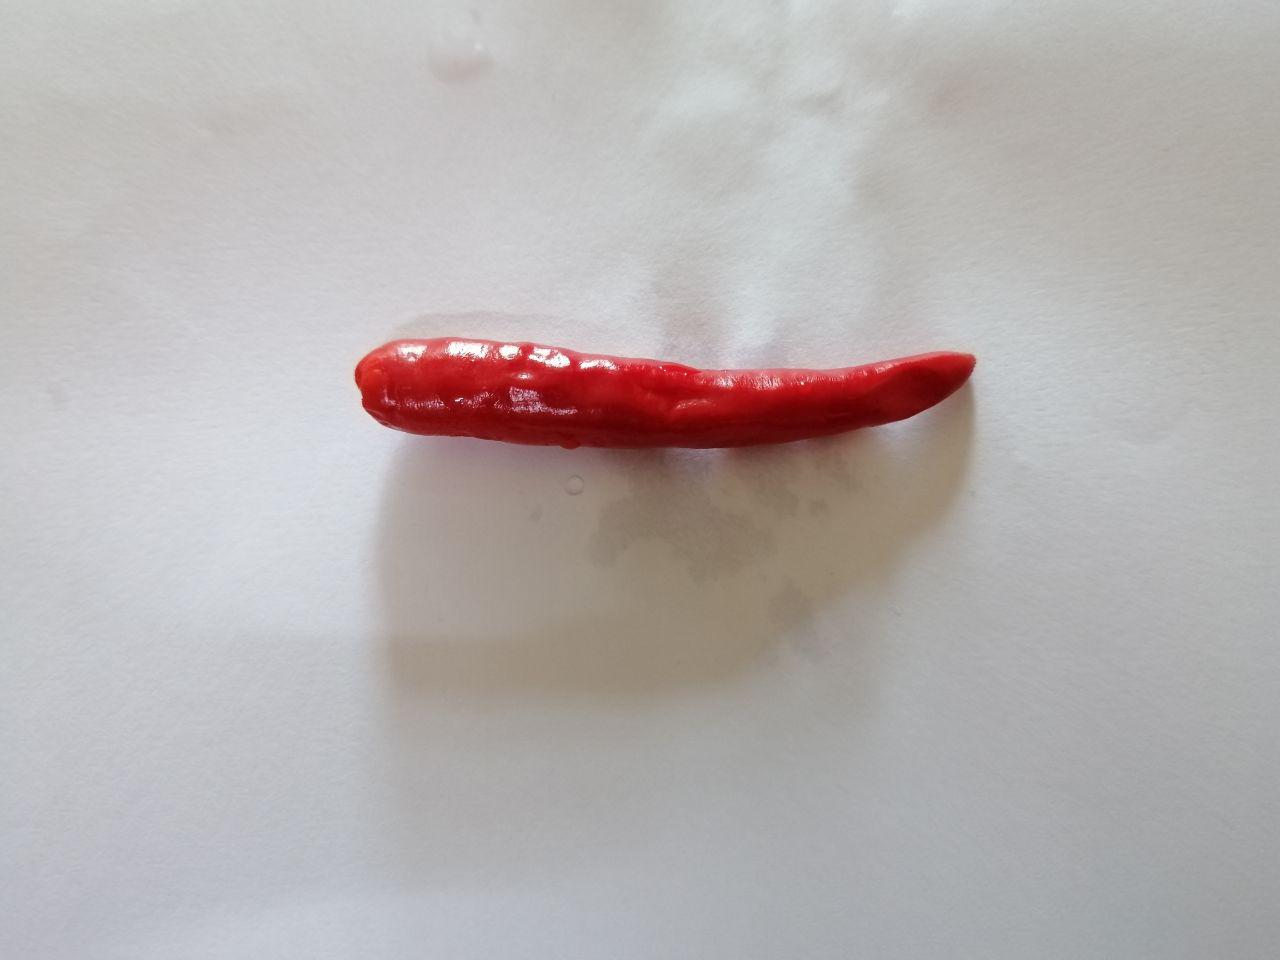lada merah: (331, 305, 1002, 490)
